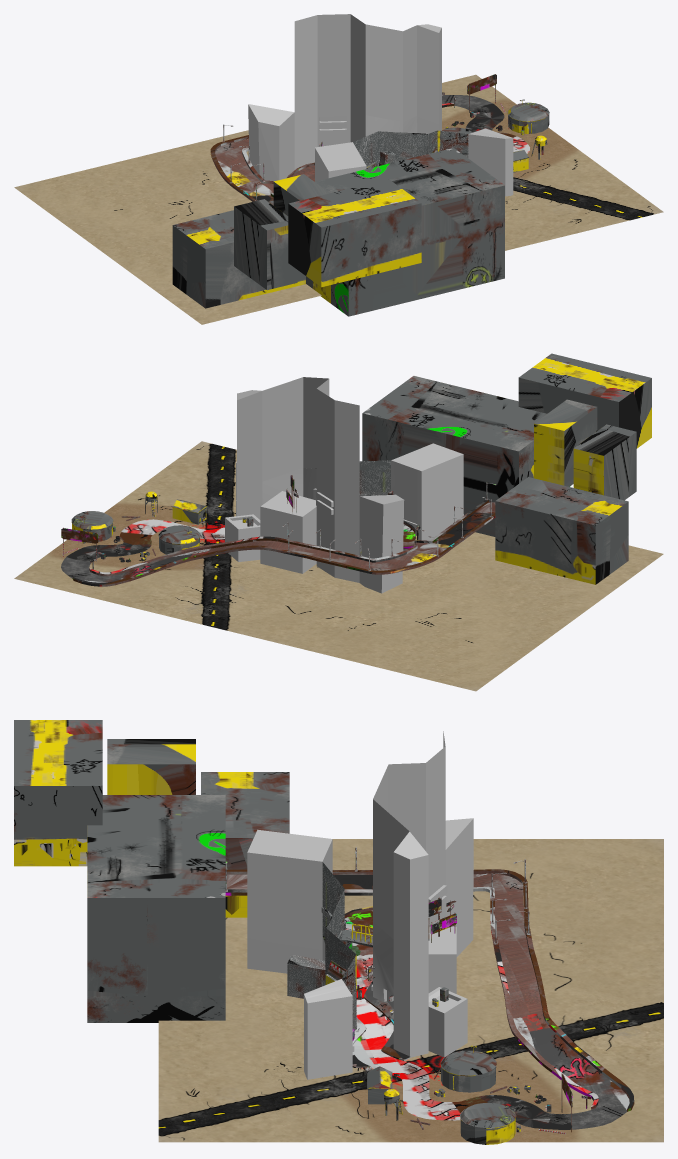
The model's file is circuitoFINAL2.obj.
3 views of the same model, one above another, from view 1: azimuth 30°, elevation 25°; view 2: azimuth 150°, elevation 25°; view 3: azimuth 270°, elevation 25° (orthographic). The views are drawn at different scales.
Parts seen in each view (by area): view 1: EdificiosFondo_Cube.043, PlanoCarretera_Plane, EdificiosPasillos.001_EdificiosPasillos.001, PistaBordillo_BezierCurve.003_CUBezierCurve.003, EdificiosPasillos_EdificiosPasillos, EdificiosIndustrial_Cylinder.001_Cylinder.016; view 2: PlanoCarretera_Plane, EdificiosFondo_Cube.043, EdificiosPasillos.001_EdificiosPasillos.001, PistaBordillo_BezierCurve.003_CUBezierCurve.003, EdificiosIndustrial_Cylinder.001_Cylinder.016, EdificiosPasillos_EdificiosPasillos, Señales_Cube.023, Farolas_Cube.021; view 3: PlanoCarretera_Plane, EdificiosFondo_Cube.043, EdificiosPasillos.001_EdificiosPasillos.001, PistaBordillo_BezierCurve.003_CUBezierCurve.003, EdificiosIndustrial_Cylinder.001_Cylinder.016, EdificiosPasillos_EdificiosPasillos, Señales_Cube.023.
Boxes of the visible parts, x1,y1,x2,y2 form: EdificiosFondo_Cube.043: [172, 148, 504, 316]; PlanoCarretera_Plane: [14, 74, 663, 324]; EdificiosPasillos.001_EdificiosPasillos.001: [248, 14, 513, 196]; PistaBordillo_BezierCurve.003_CUBezierCurve.003: [210, 92, 529, 201]; EdificiosPasillos_EdificiosPasillos: [353, 130, 468, 168]; EdificiosIndustrial_Cylinder.001_Cylinder.016: [442, 99, 549, 172]; PlanoCarretera_Plane: [14, 441, 663, 691]; EdificiosFondo_Cube.043: [362, 353, 651, 584]; EdificiosPasillos.001_EdificiosPasillos.001: [225, 377, 463, 593]; PistaBordillo_BezierCurve.003_CUBezierCurve.003: [61, 499, 495, 586]; EdificiosIndustrial_Cylinder.001_Cylinder.016: [71, 491, 207, 554]; EdificiosPasillos_EdificiosPasillos: [311, 460, 390, 496]; Señales_Cube.023: [61, 475, 420, 569]; Farolas_Cube.021: [282, 482, 495, 571]; PlanoCarretera_Plane: [158, 839, 663, 1142]; EdificiosFondo_Cube.043: [14, 720, 289, 1022]; EdificiosPasillos.001_EdificiosPasillos.001: [247, 731, 473, 1079]; PistaBordillo_BezierCurve.003_CUBezierCurve.003: [225, 869, 634, 1129]; EdificiosIndustrial_Cylinder.001_Cylinder.016: [367, 1045, 516, 1144]; EdificiosPasillos_EdificiosPasillos: [287, 862, 356, 1030]; Señales_Cube.023: [328, 885, 590, 1132].
Size of the model in its own units: 3265 by 1201 by 2924.
